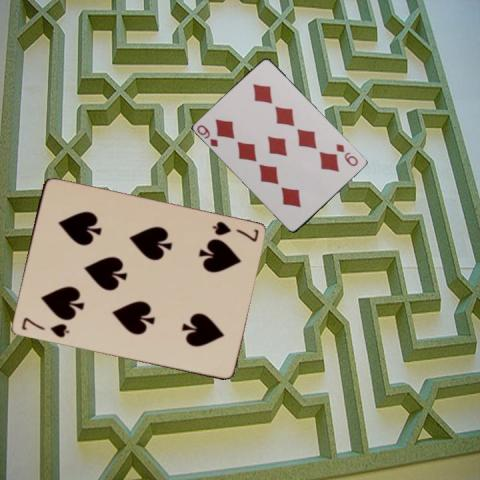7s: (18, 315, 71, 339), (209, 219, 260, 243)
9d: (333, 141, 360, 168), (194, 122, 220, 149)
